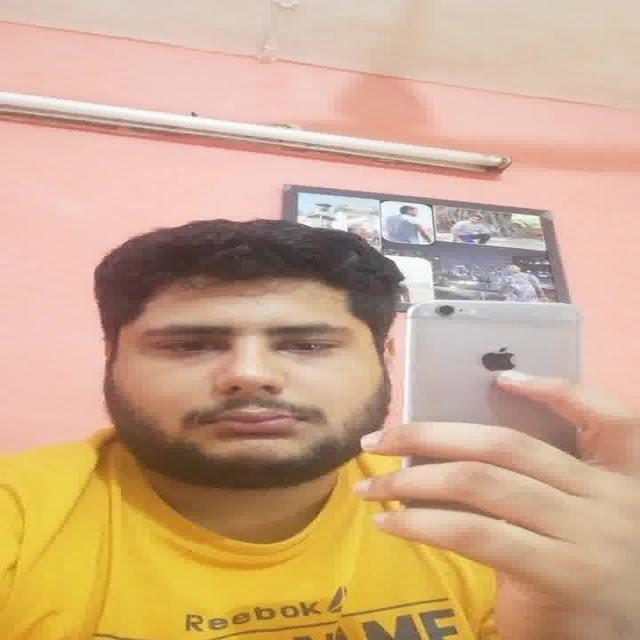Phone: (404, 298, 586, 446)
